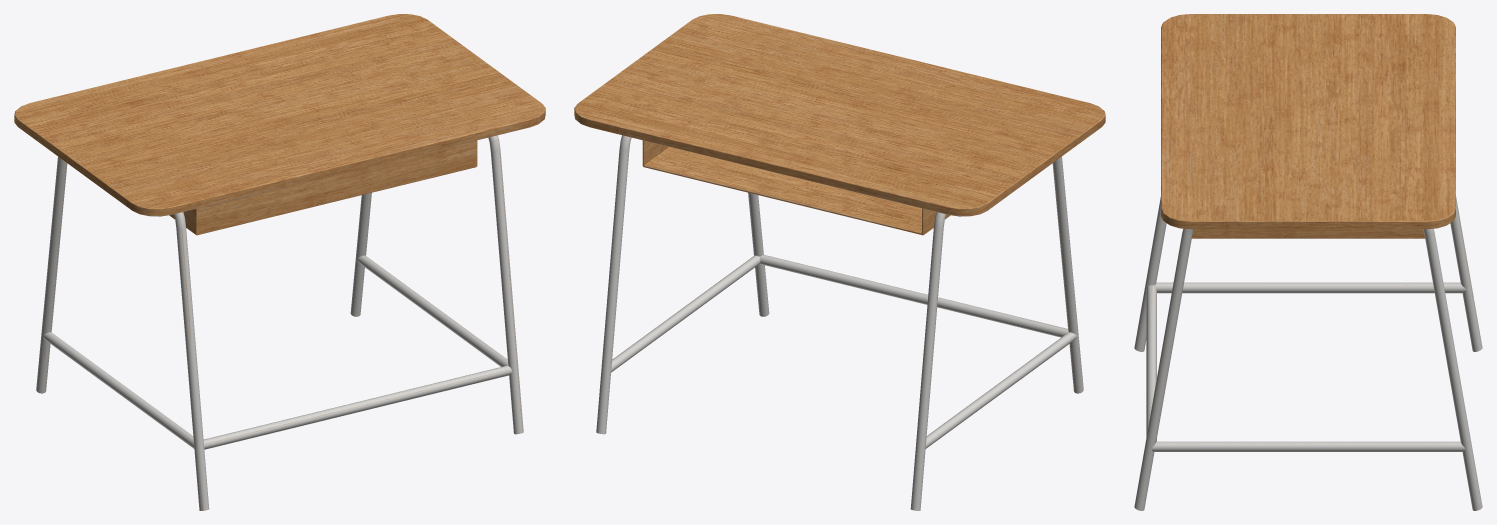
The model's file is Desk.fbx.
The picture shows the model from 3 angles, left to right: view 1: azimuth 30°, elevation 25°; view 2: azimuth 150°, elevation 25°; view 3: azimuth 270°, elevation 25°; orthographic projection. The views are drawn at different scales.
Visible parts, largest first — view 1: TableTop, Frame; view 2: TableTop, Frame; view 3: TableTop, Frame.
Part boxes in pixels (x1,y1,x2,y2): TableTop: (14,14,545,235); Frame: (36,135,523,510); TableTop: (574,14,1105,235); Frame: (596,135,1083,510); TableTop: (1161,14,1455,238); Frame: (1134,197,1482,510).
Bounding box in the file's own units: 80.06 × 56.26 × 56.76.
1 material, 1 textured.
